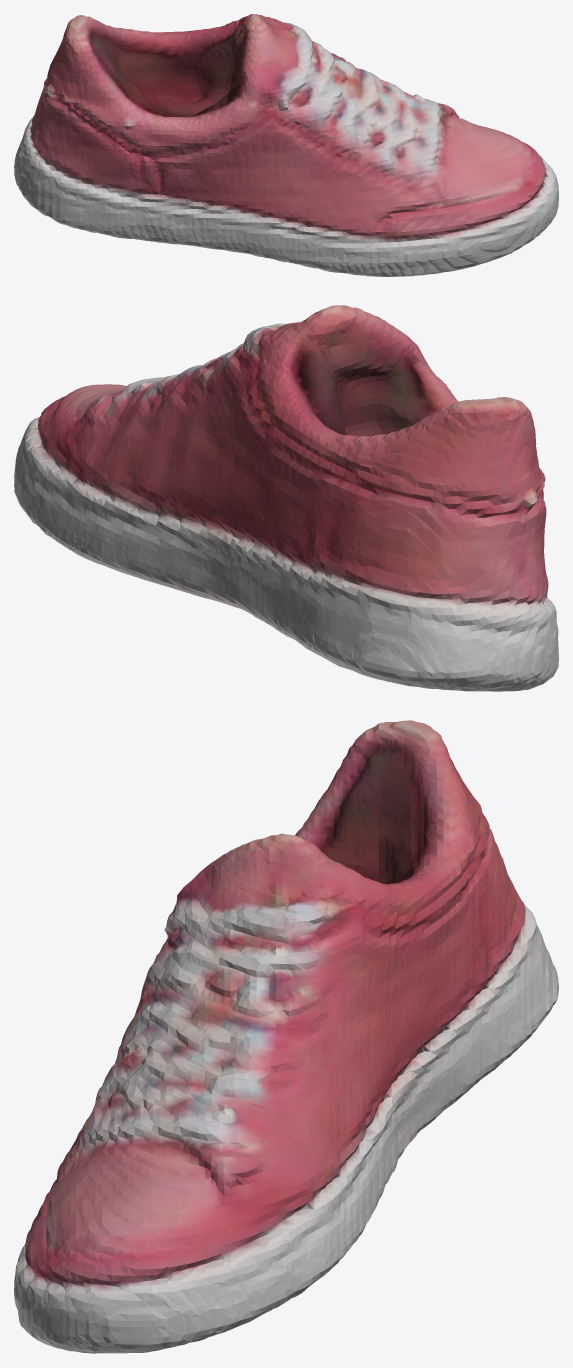
The model's file is sneaker.glb.
3 renders of one model, top to bottom at view 1: azimuth 30°, elevation 25°; view 2: azimuth 150°, elevation 25°; view 3: azimuth 270°, elevation 25°, orthographic. The views are drawn at different scales.
Parts seen in each view (by area): view 1: geometry_0; view 2: geometry_0; view 3: geometry_0.
Part boxes in pixels (x1,y1,x2,y2): geometry_0: (14,14,558,276); geometry_0: (14,305,558,691); geometry_0: (14,720,558,1353).
Bounding box in the file's own units: 1.96 × 1 × 1.32.
